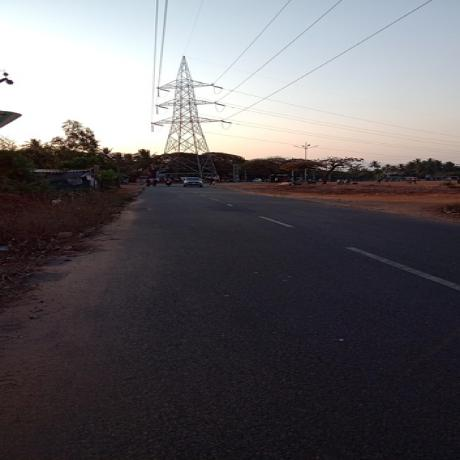Speed Bump: (140, 183, 220, 186)
